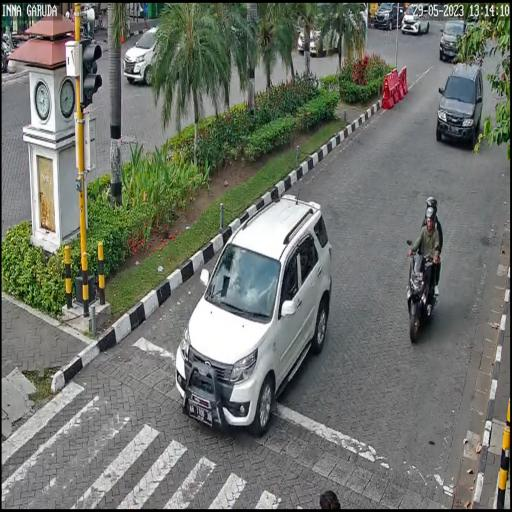mobil: (173, 193, 331, 433), (438, 62, 484, 148), (440, 17, 468, 66)
motor: (404, 240, 440, 344)
